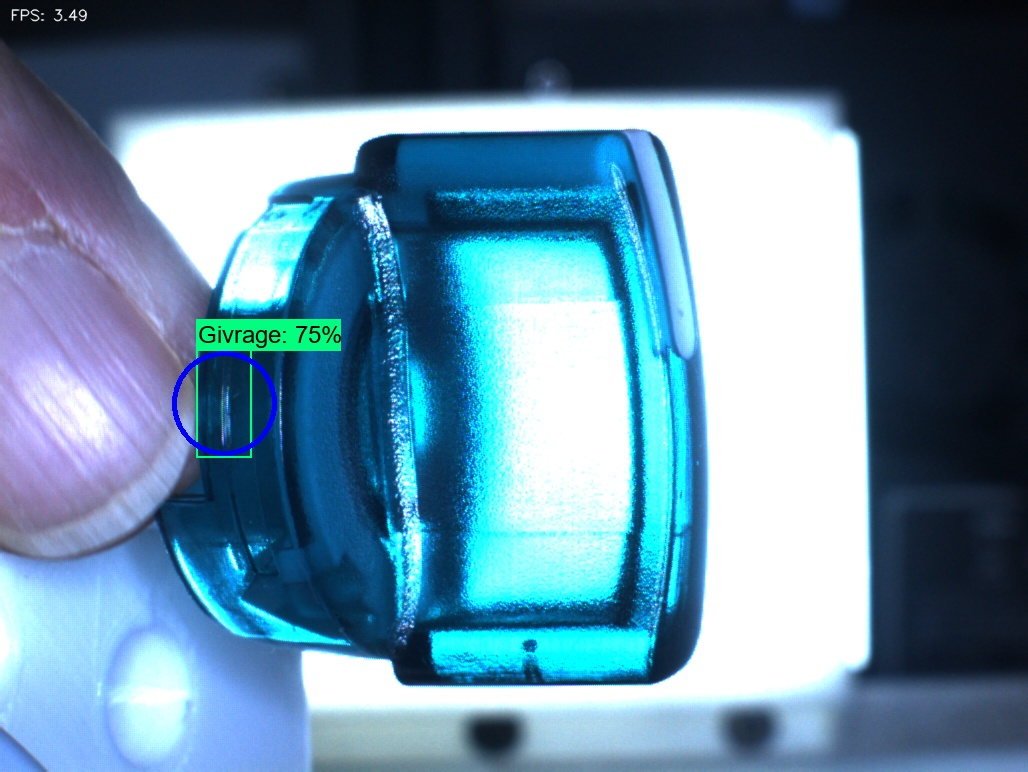Bulle: (491, 608, 587, 707)
